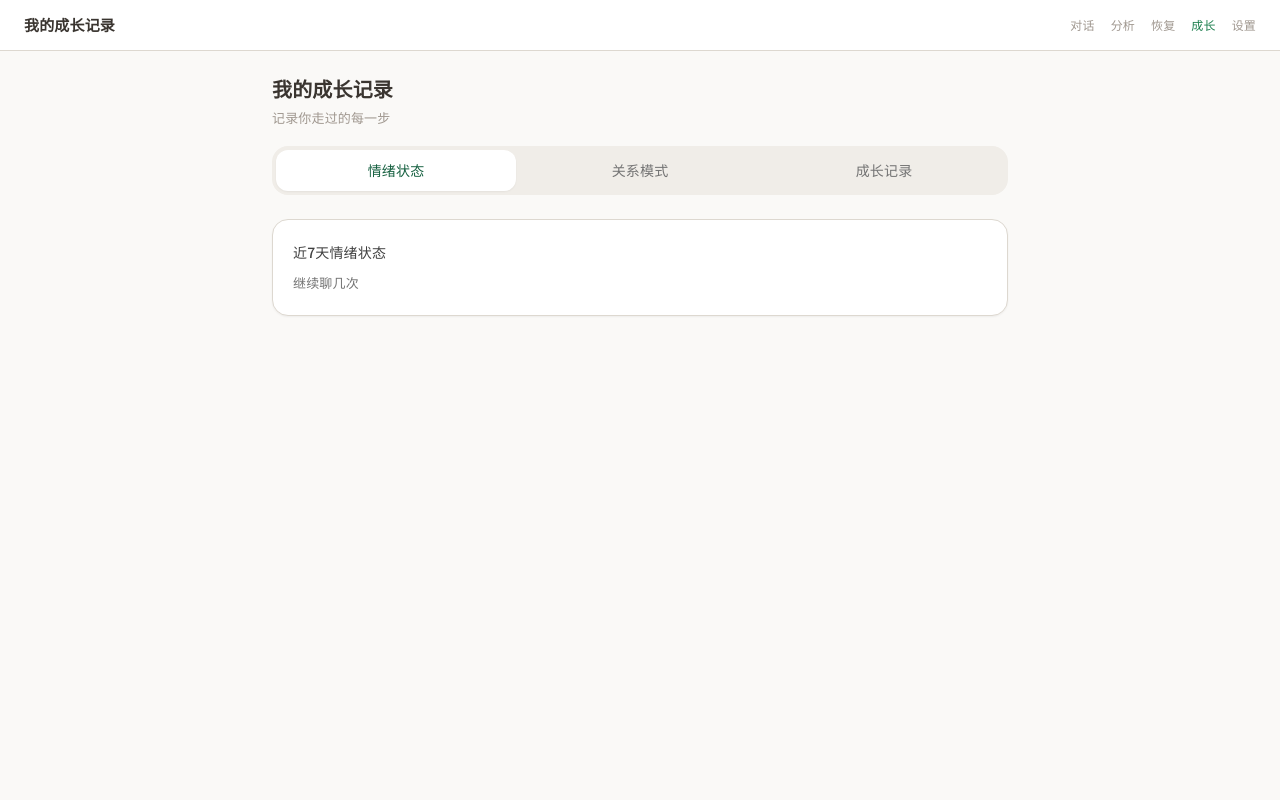
Scenario: <GrowthPage /> › 确认弹窗可取消
Click the button "成长记录".
click(884, 170)  # box [764,150,1004,190]
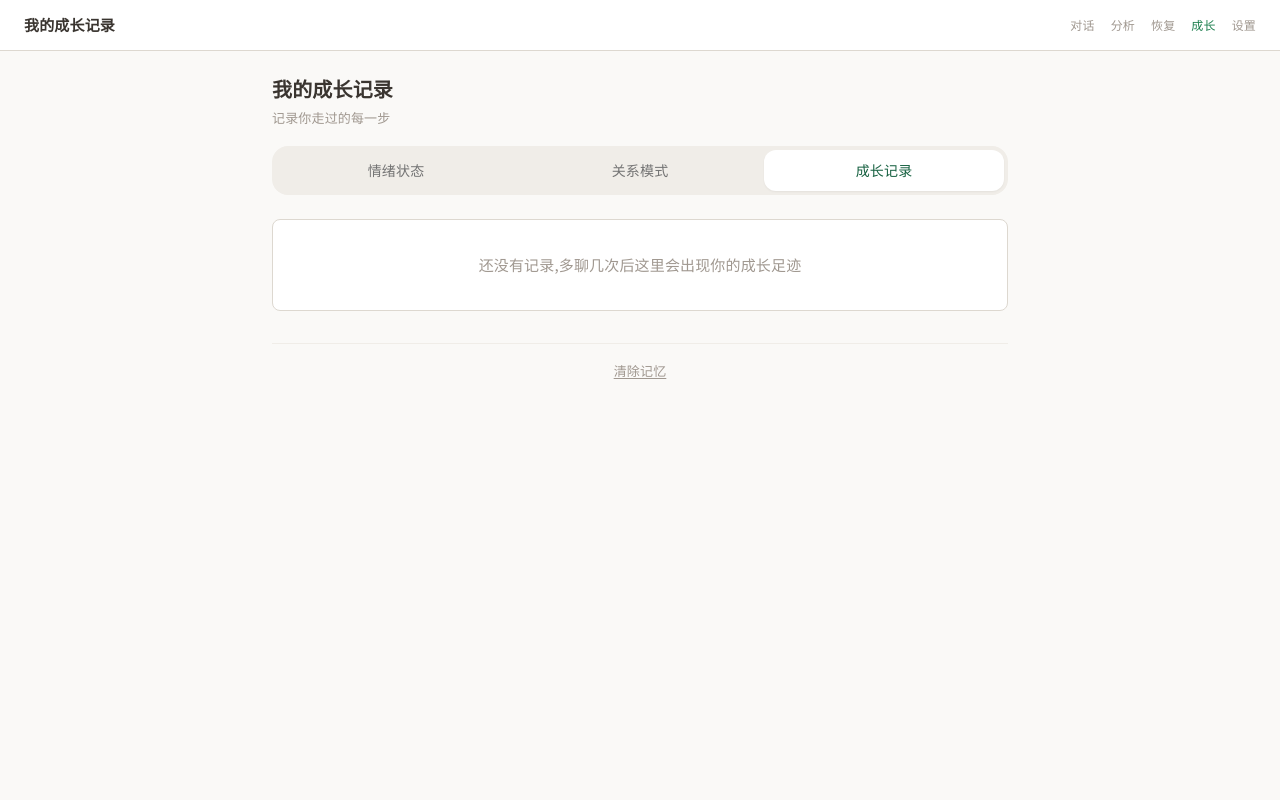
Expected: the text "还没有记录,多聊几次后这里会出现你的成长足迹" is shown, [272,218,1008,311]
Click the button "清除记忆".
click(640, 371)  # box [614,360,666,383]
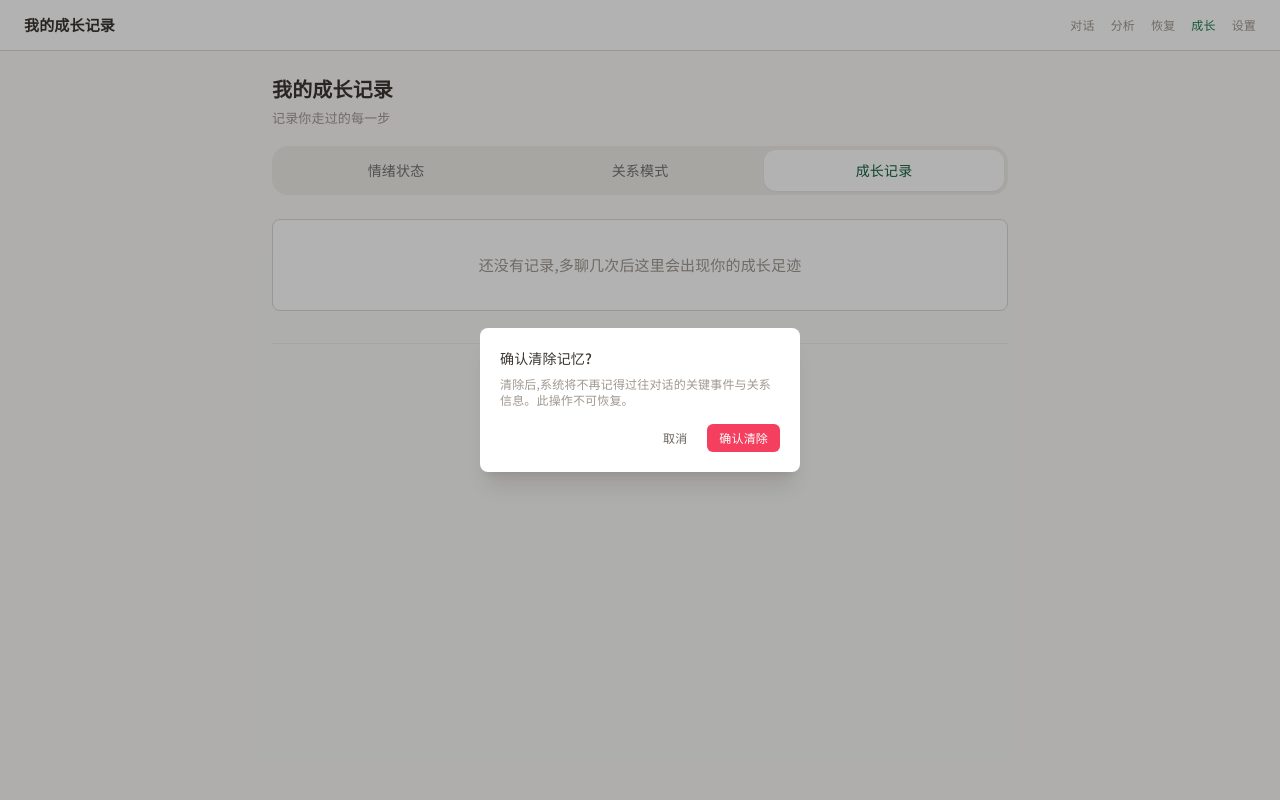
Expected: the dialog is shown
Click the button "取消".
click(675, 438)  # box [651,424,699,452]
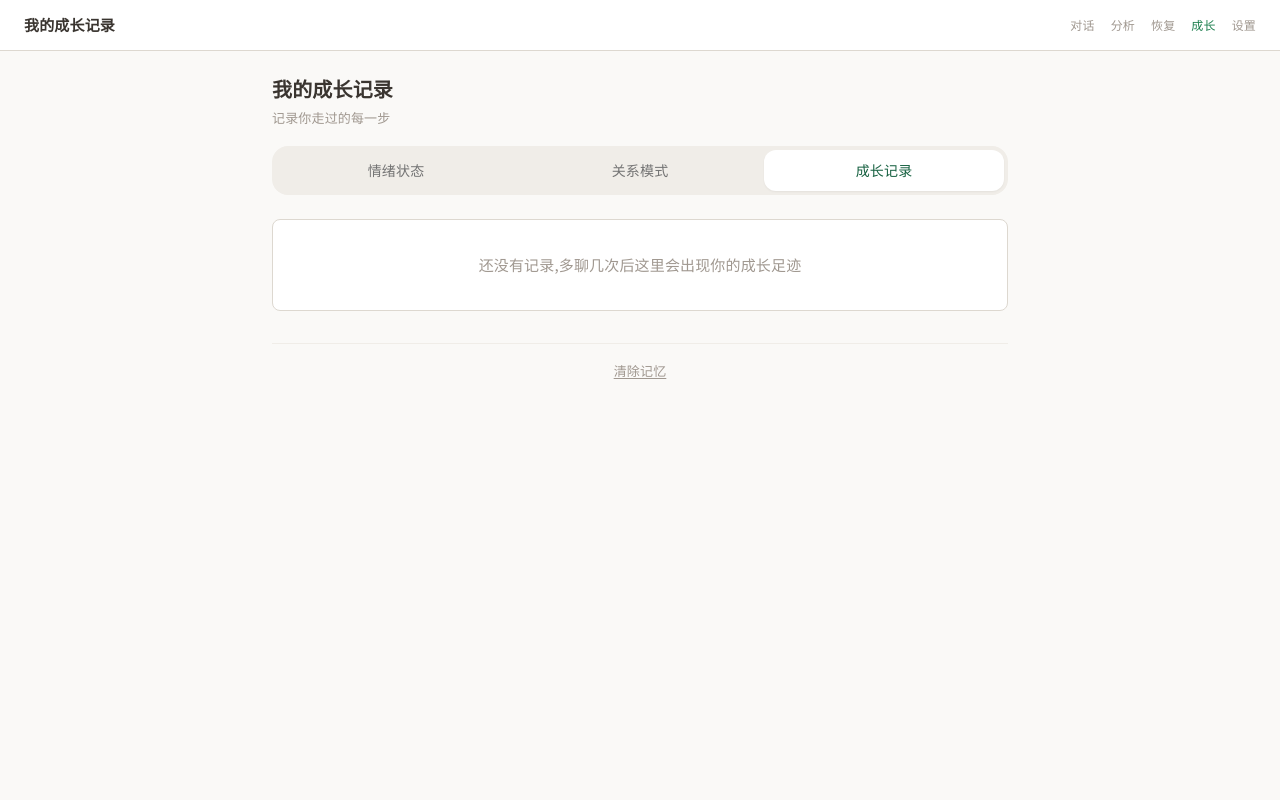
Expected: the dialog is gone
